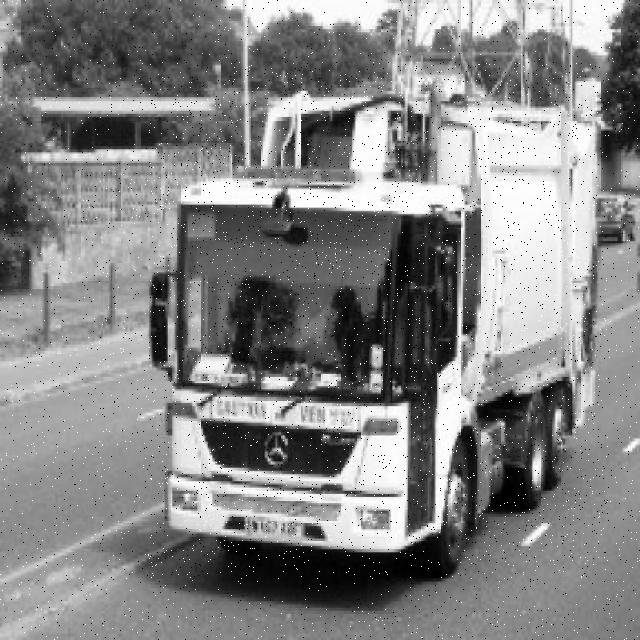Garbage Truck: (149, 62, 609, 578)
